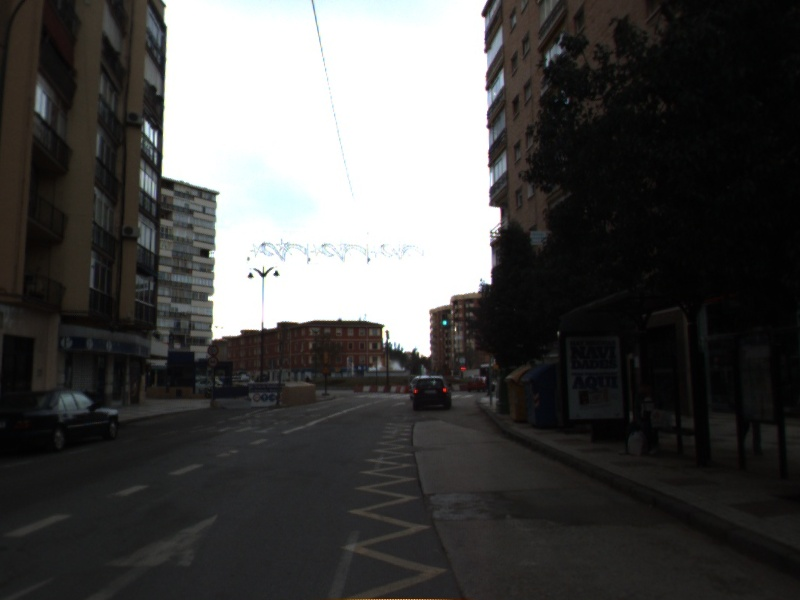STRAIGHT: (78, 511, 221, 600)
